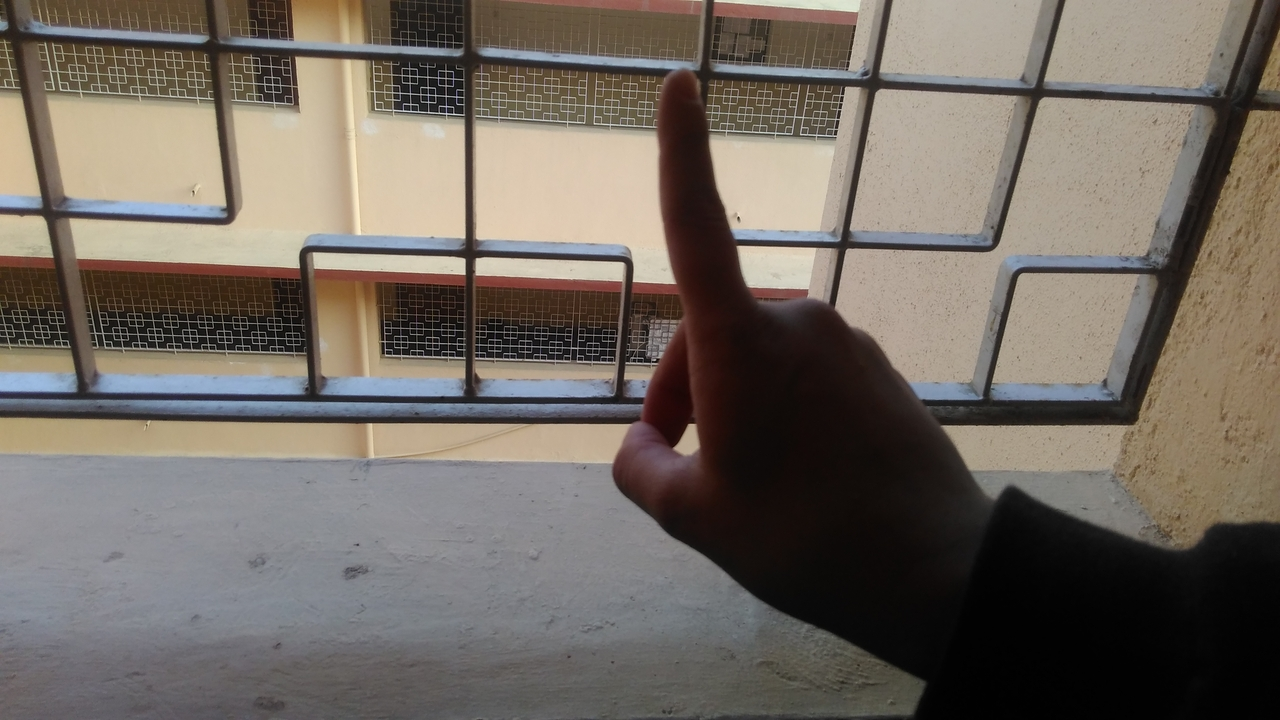fingertip: (654, 60, 708, 110)
